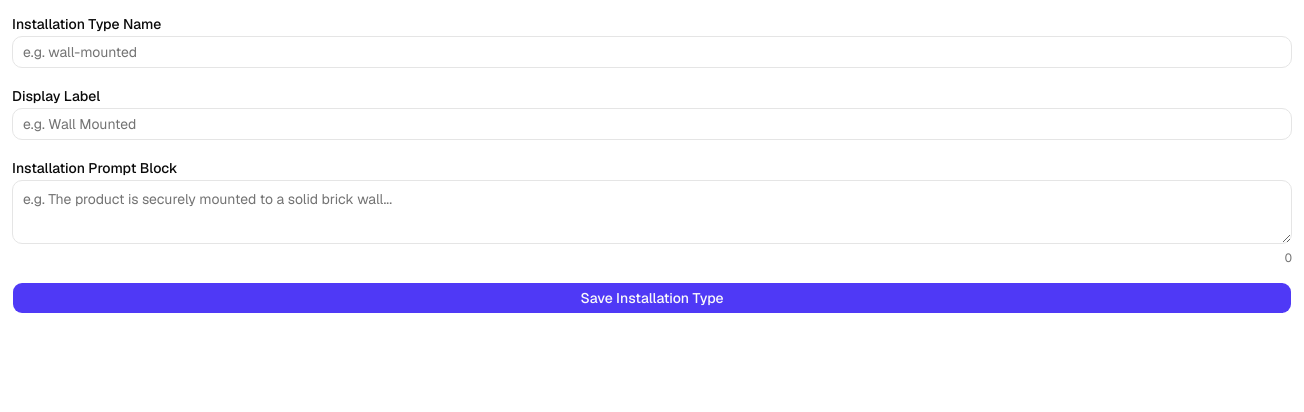
Test case: InstallationTypeForm › shows validation errors for empty required fields
The width and height of the screenshot is (1304, 412).
Click the button "Save Installation Type" at {"x": 652, "y": 298}, box [12,282,1292,314]
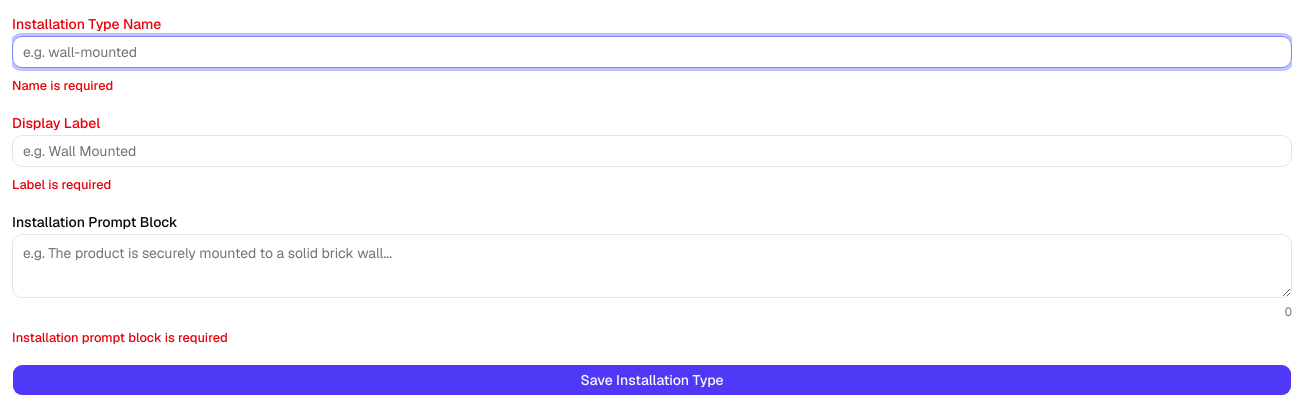
Result: the text "Name is required" is shown at [12,77,113,94]
Result: the text "Label is required" is shown at [12,176,111,193]
Result: the text "Installation prompt block is required" is shown at [12,329,228,346]
